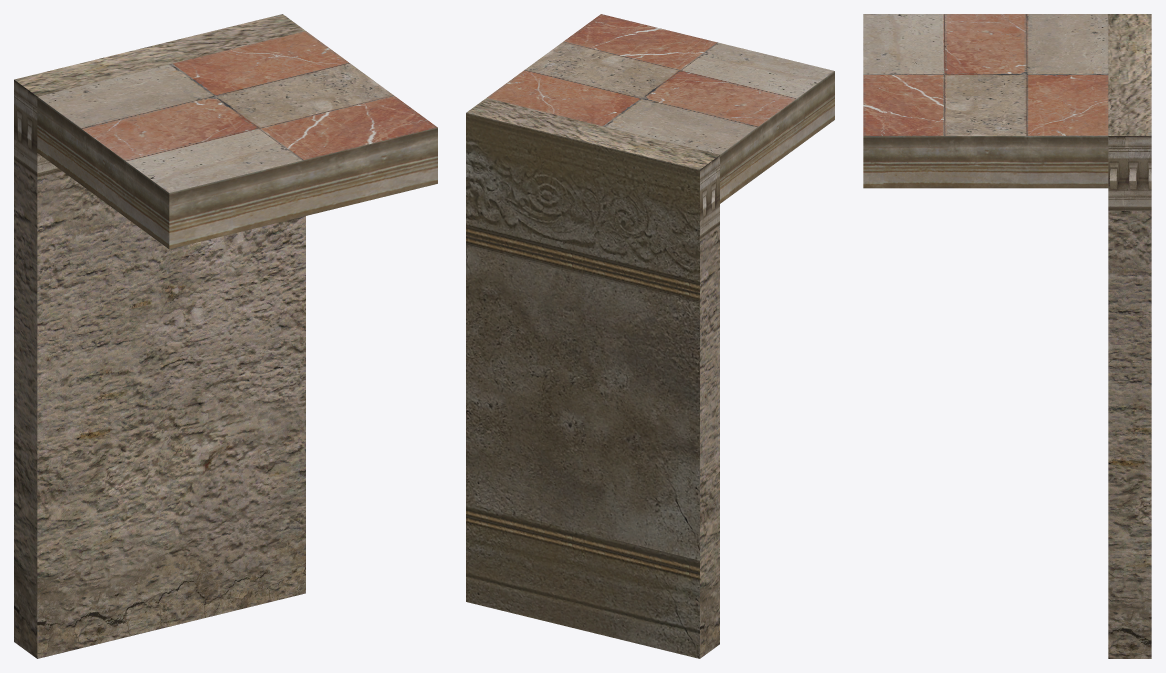
The model's file is SH3D_Sparta_BalcWall6.obj.
3 renders of one model, left to right at view 1: azimuth 30°, elevation 25°; view 2: azimuth 150°, elevation 25°; view 3: azimuth 270°, elevation 25°, orthographic. The views are drawn at different scales.
Visible parts, largest first — view 1: Base_ExtWall_Sparta0, Base_Floor2_Sparta0, Base_StepsRail_Sparta0; view 2: Base_IntWall_Sparta0, Base_Floor2_Sparta0, Base_ExtWall_Sparta0, Base_StepsRail_Sparta0; view 3: Base_Floor2_Sparta0, Base_ExtWall_Sparta0, Base_StepsRail_Sparta0.
Part boxes in pixels (x1=…): Base_ExtWall_Sparta0: x1=14, y1=14, x2=305, y2=658; Base_Floor2_Sparta0: x1=37, y1=31, x2=437, y2=192; Base_StepsRail_Sparta0: x1=37, y1=97, x2=437, y2=249; Base_IntWall_Sparta0: x1=466, y1=113, x2=699, y2=658; Base_Floor2_Sparta0: x1=487, y1=14, x2=834, y2=154; Base_ExtWall_Sparta0: x1=466, y1=98, x2=719, y2=658; Base_StepsRail_Sparta0: x1=720, y1=71, x2=834, y2=203; Base_Floor2_Sparta0: x1=863, y1=14, x2=1108, y2=135; Base_ExtWall_Sparta0: x1=1108, y1=14, x2=1151, y2=658; Base_StepsRail_Sparta0: x1=863, y1=136, x2=1108, y2=188.
Bounding box in the file's own units: 200 × 400 × 200.
5 materials, 5 textured.
